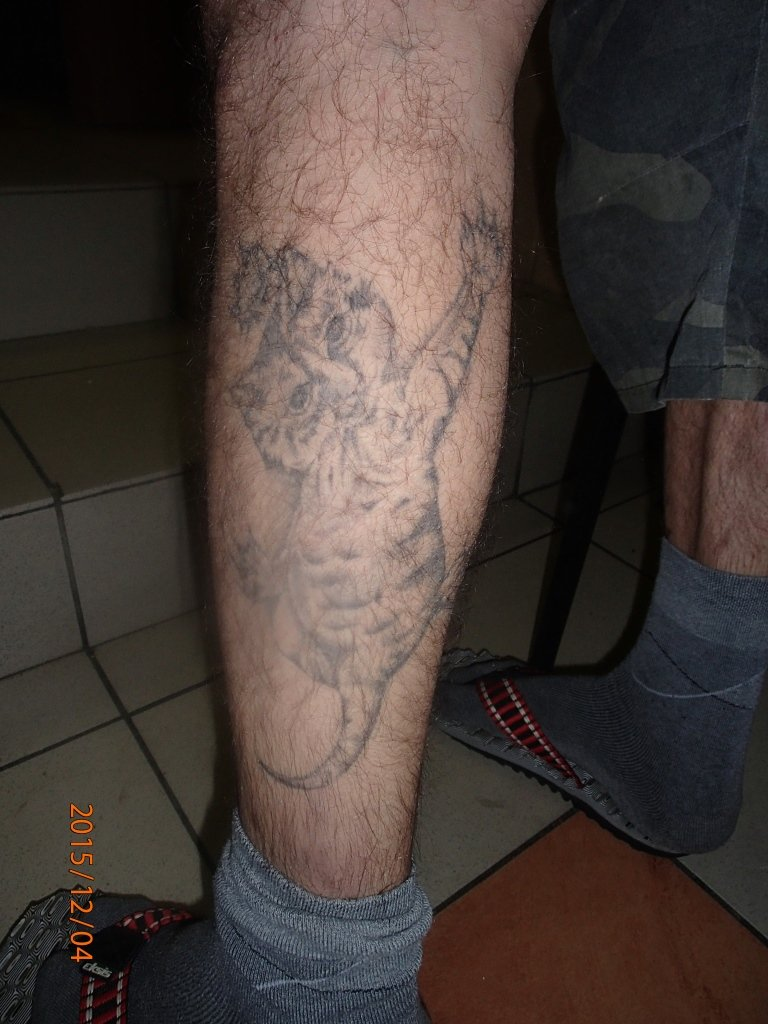tatu8_kot: (222, 183, 508, 809)
